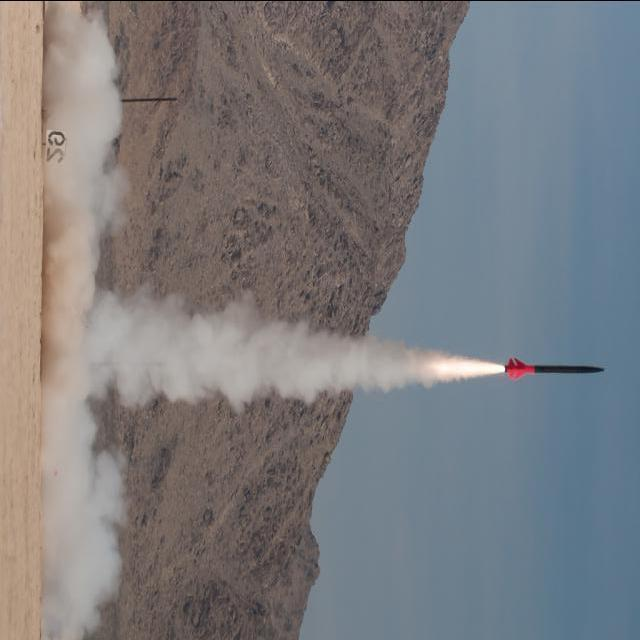missile: (502, 353, 608, 393)
